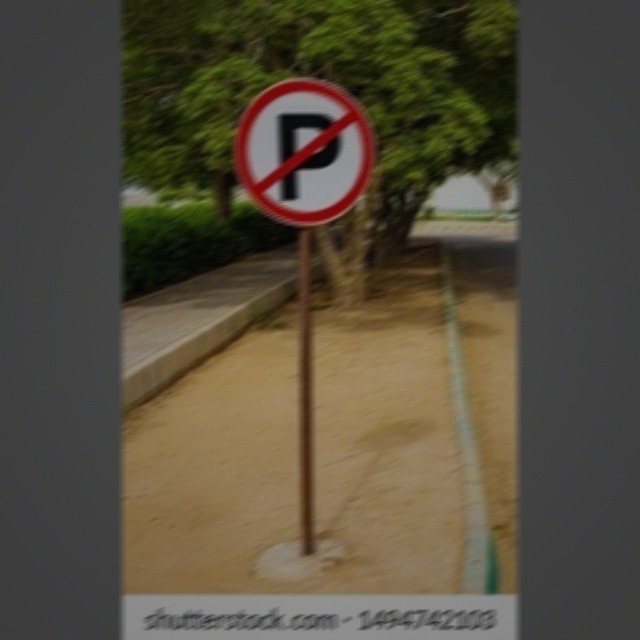No_Parking: (235, 80, 375, 228)
